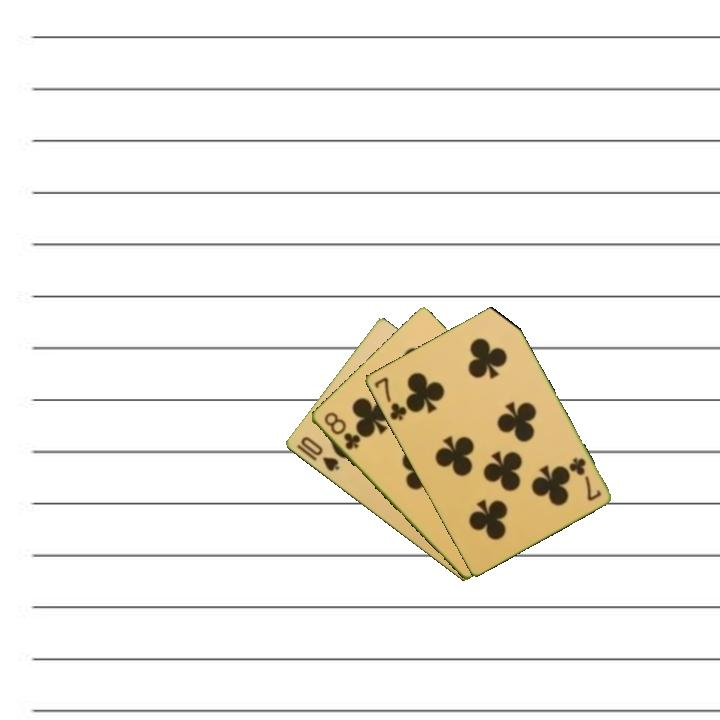10s: (297, 433, 342, 474)
7c: (370, 373, 409, 424), (565, 454, 604, 504)
8c: (320, 408, 363, 453)
